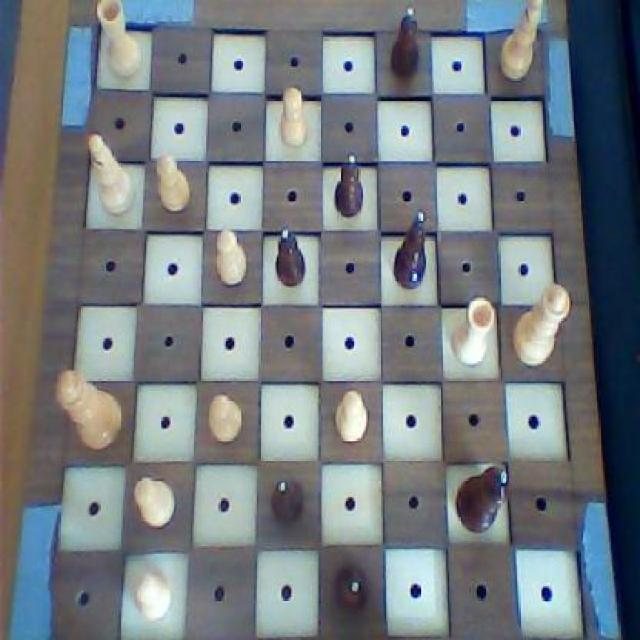bishop: (391, 208, 431, 292)
black-bishop: (452, 460, 512, 539)
black-knight: (388, 3, 424, 82), (331, 562, 372, 616), (274, 224, 307, 288), (269, 475, 307, 528), (334, 153, 364, 220)
black-rook: (84, 129, 138, 221), (494, 0, 546, 86)
white-bishop: (52, 364, 125, 456)
white-knight: (129, 468, 179, 528), (151, 154, 193, 217), (211, 222, 248, 290), (129, 568, 175, 620), (204, 389, 244, 445), (334, 386, 370, 448), (276, 83, 308, 150)
white-pawn: (509, 278, 574, 370)
white-queen: (91, 0, 144, 83), (448, 292, 494, 374)
